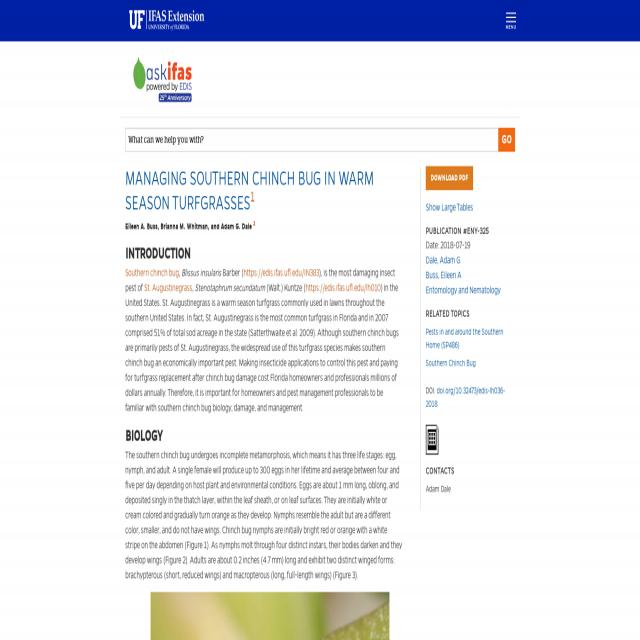button: (150, 590, 388, 640), (133, 56, 191, 102), (129, 10, 204, 31), (426, 166, 473, 190), (498, 127, 515, 152), (426, 425, 438, 454), (506, 12, 516, 27)
field: (126, 128, 498, 152)
